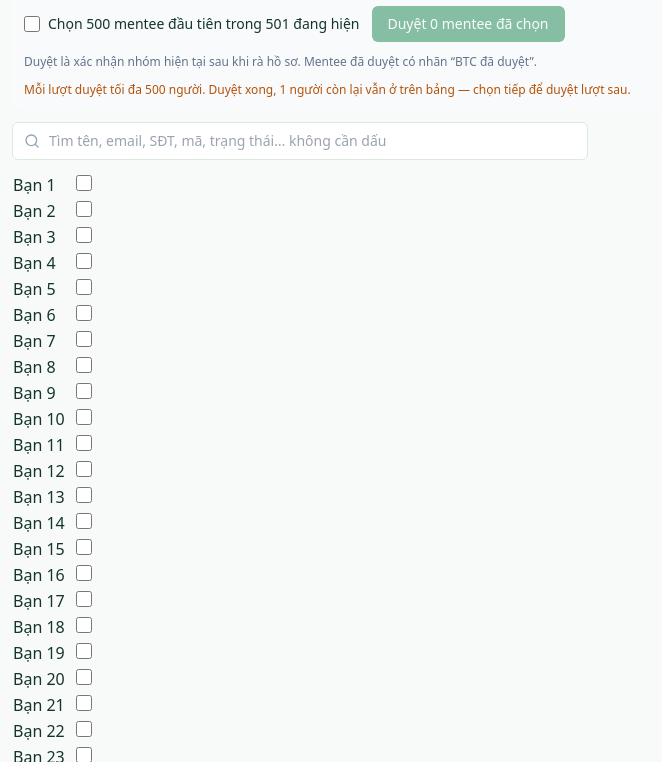
Scenario: trần 500 người mỗi lượt duyệt › đã chọn đủ 500 thì tick thêm người thứ 501 không được; bỏ một người rồi tick lại thì được
Click the checkbox labelled "Chọn 500 mentee đầu tiên trong 501 đang hiện". click: [32, 24]
box: [24, 16, 40, 32]
(page scrolled)
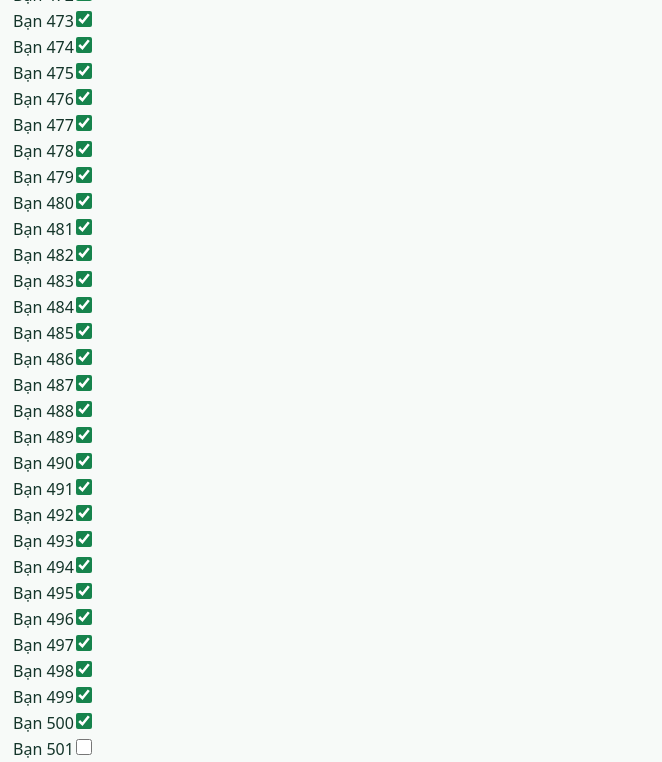
Click the checkbox named "Duyệt nhóm của Bạn 501". click: [84, 747]
box: [76, 739, 92, 755]
(page scrolled)
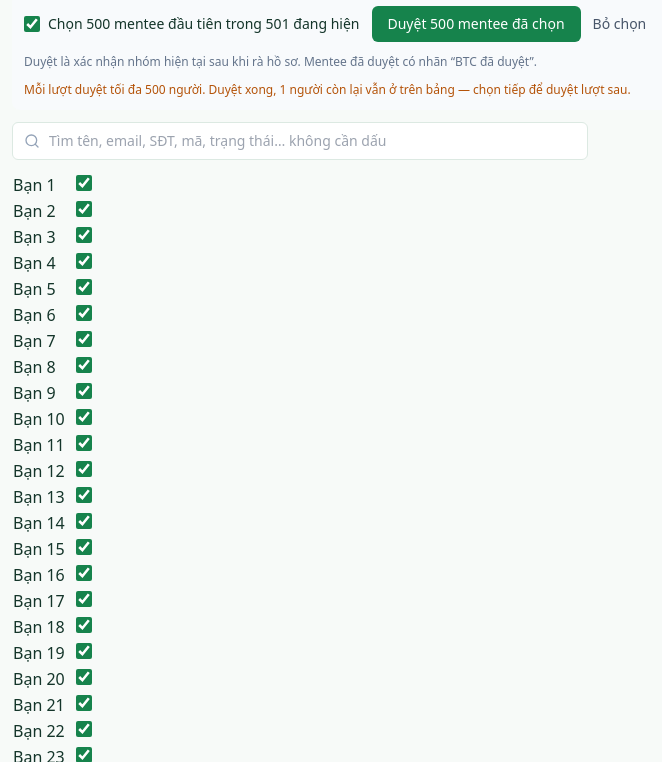
Result: the button "Duyệt 500 mentee đã chọn" is shown at [372, 6, 580, 42]
Click the checkbox named "Duyệt nhóm của Bạn 1". click: [84, 183]
box: [76, 175, 92, 191]
(page scrolled)
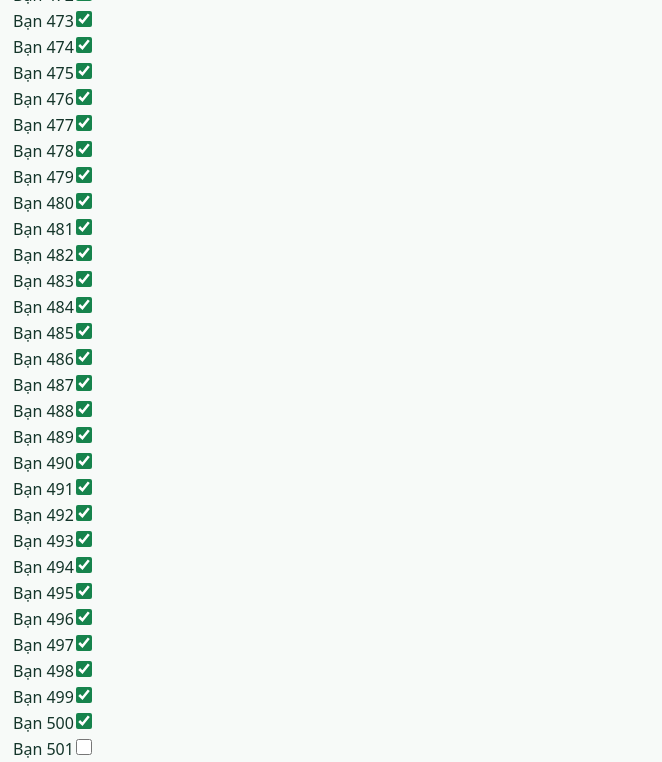
Click the checkbox named "Duyệt nhóm của Bạn 501". click: [84, 747]
box: [76, 739, 92, 755]
(page scrolled)
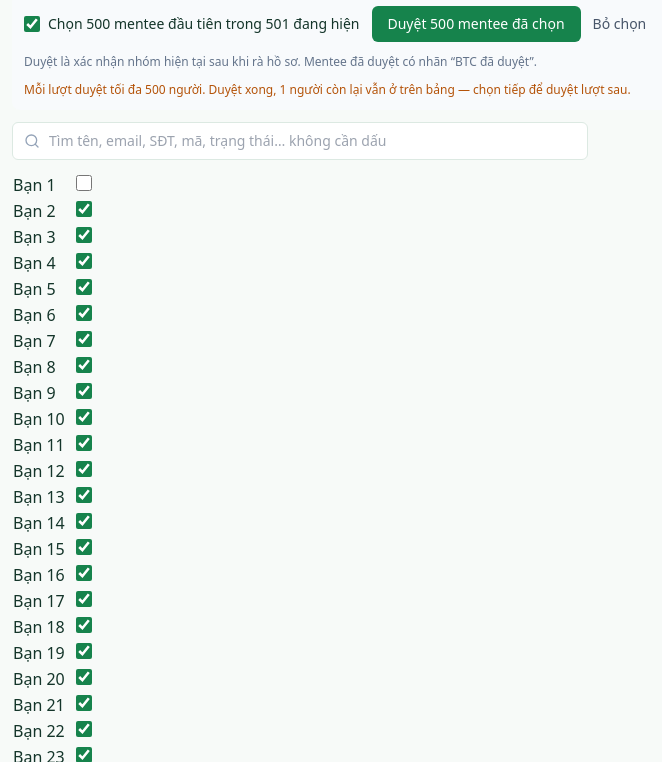
Result: the button "Duyệt 500 mentee đã chọn" is shown at [372, 6, 580, 42]
